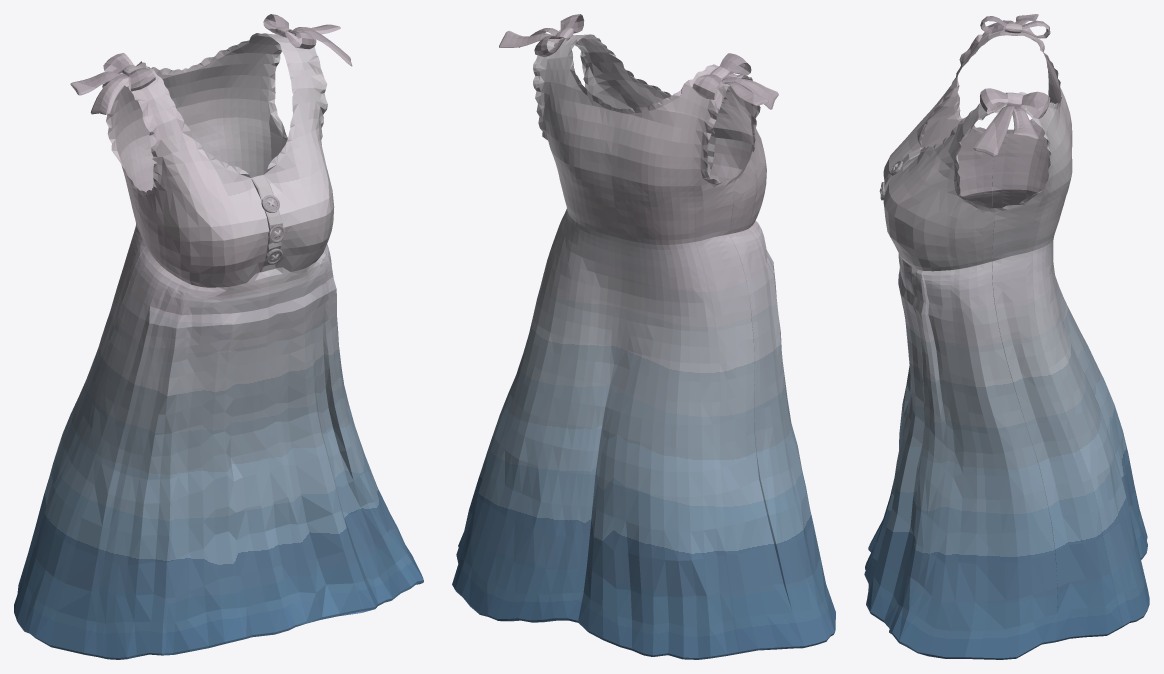
The model's file is femaleDress2.glb.
3 views of the same model, side by side, from view 1: azimuth 30°, elevation 25°; view 2: azimuth 150°, elevation 25°; view 3: azimuth 270°, elevation 25° (orthographic). The views are drawn at different scales.
Parts seen in each view (by area): view 1: Buffer Object (×3); view 2: Buffer Object (×2); view 3: Buffer Object (×2).
Boxes of the visible parts, <box> form: Buffer Object (×3): <box>14,14,423,659</box>; Buffer Object (×2): <box>452,14,835,659</box>; Buffer Object (×2): <box>864,14,1149,659</box>.
Bounding box in the file's own units: 0.6058 × 0.8767 × 0.4247.
3 materials, 3 textured.
